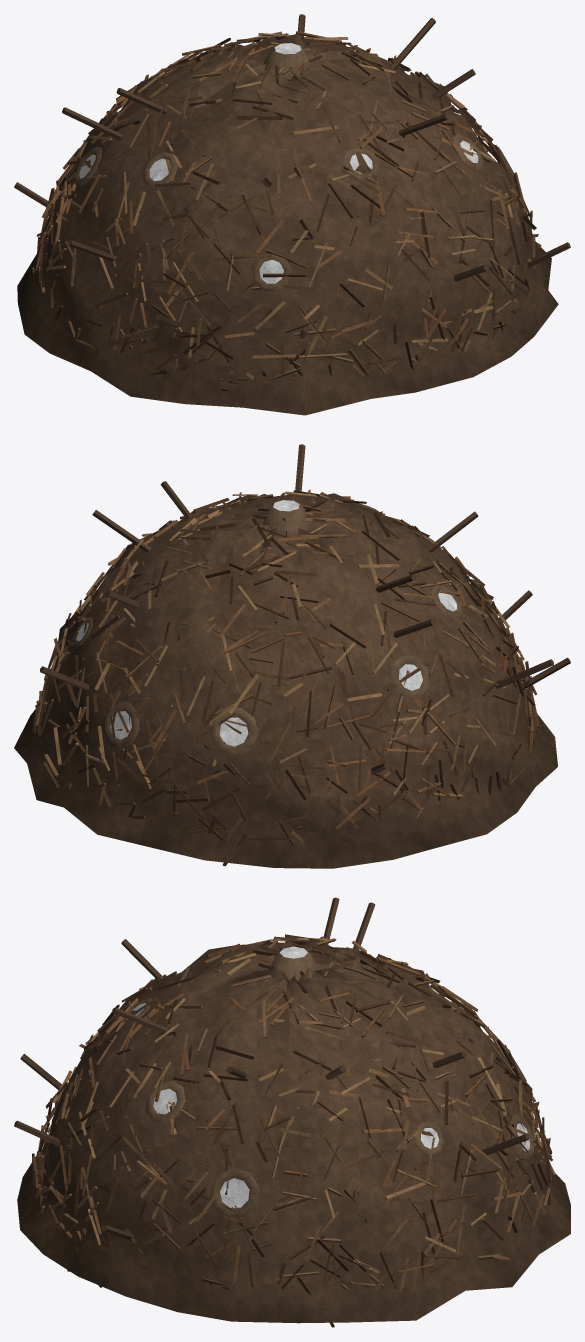
Rendered from gang_colonie_3.glb.
The picture shows the model from 3 angles, top to bottom: view 1: azimuth 30°, elevation 25°; view 2: azimuth 150°, elevation 25°; view 3: azimuth 270°, elevation 25°; orthographic projection. The views are drawn at different scales.
Visible parts, largest first — view 1: habitat_colonie; view 2: habitat_colonie; view 3: habitat_colonie.
Part boxes in pixels (x1=…): habitat_colonie: x1=14, y1=14, x2=570, y2=415; habitat_colonie: x1=14, y1=444, x2=570, y2=868; habitat_colonie: x1=14, y1=897, x2=570, y2=1327.
Bounding box in the file's own units: 55.35 × 28.62 × 54.28.
7 materials, 7 textured.
